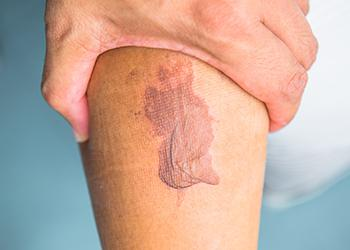burned-skin: (125, 48, 232, 211)
